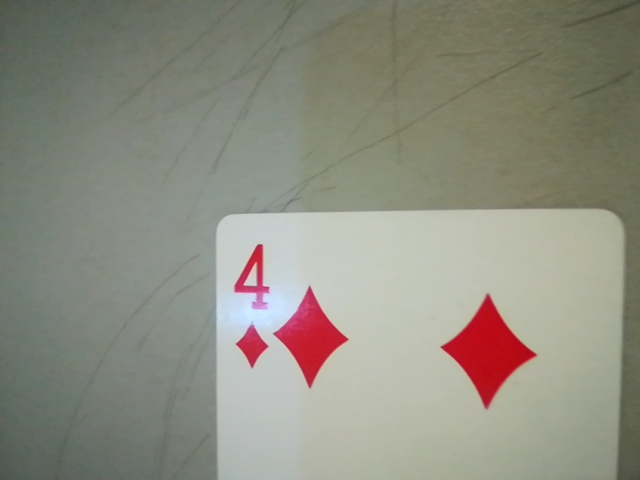fk 4: (217, 230, 282, 378)
